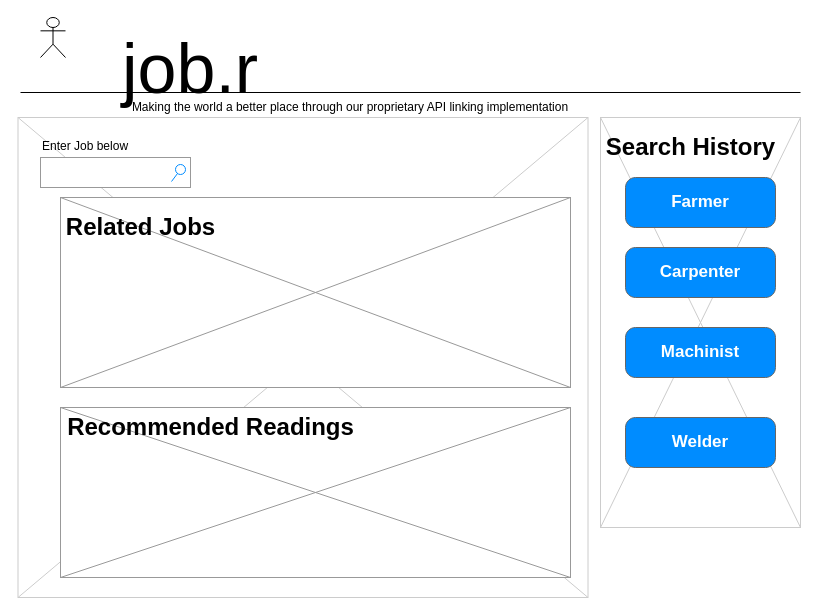
This 818x615 diagram has some shape labels left out. Here are the shapes that lost their labels. From the top down, the centre of each, then its label:
At pixel 53 37: "Actor".
At pixel 115 172: "Search".
